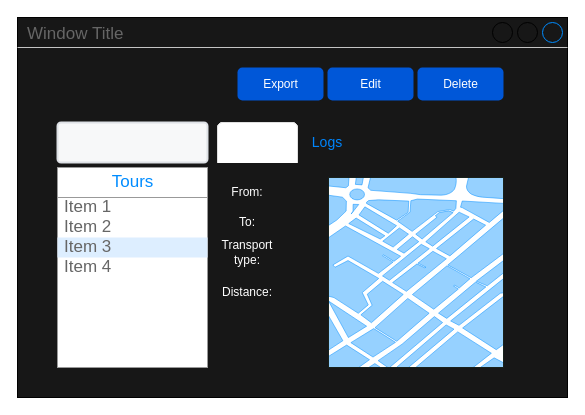
Some shapes in this 585 by 415 pixel diagram are drawn without their labels. Each missing label, with the box of its shape:
Details: (216, 122, 298, 162)
Filter: (56, 121, 208, 163)
